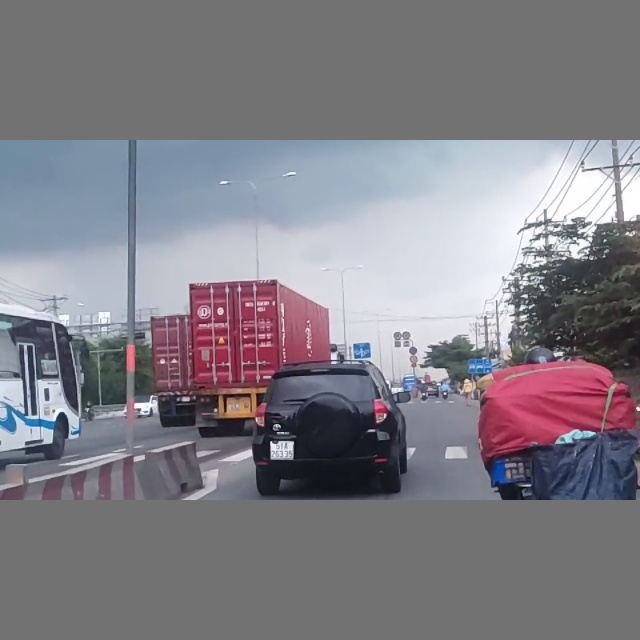R.415a: (468, 359, 493, 373)
